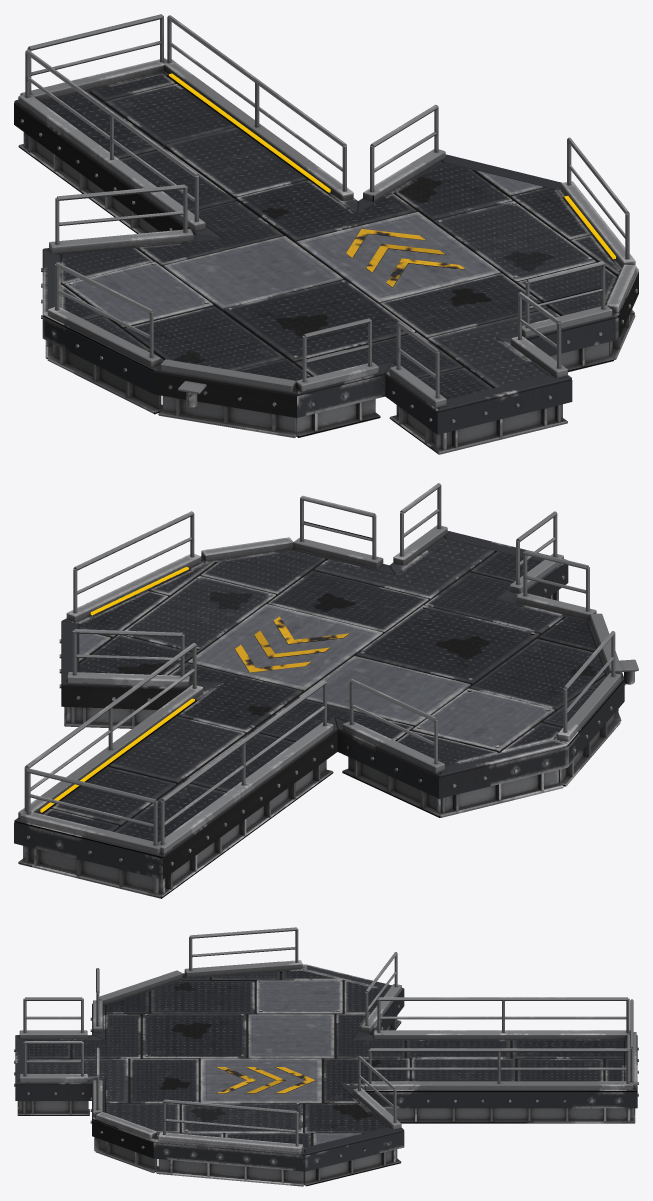
The model's file is nodexeus-set-deck-m1.glb.
3 views of the same model, one above another, from view 1: azimuth 30°, elevation 25°; view 2: azimuth 150°, elevation 25°; view 3: azimuth 270°, elevation 25° (orthographic). The views are drawn at different scales.
Visible parts, largest first — view 1: set-deck-m1; view 2: set-deck-m1; view 3: set-deck-m1.
Boxes of the visible parts, x1,y1,x2,y2 form: set-deck-m1: [14, 14, 638, 454]; set-deck-m1: [14, 483, 638, 898]; set-deck-m1: [14, 927, 638, 1186].
Size of the model in its own units: 10.21 by 1.84 by 14.21.
Materials: 1 (1 with a texture image).
